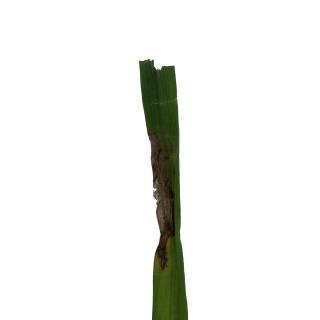Hawar-Daun: (156, 129, 180, 268)
